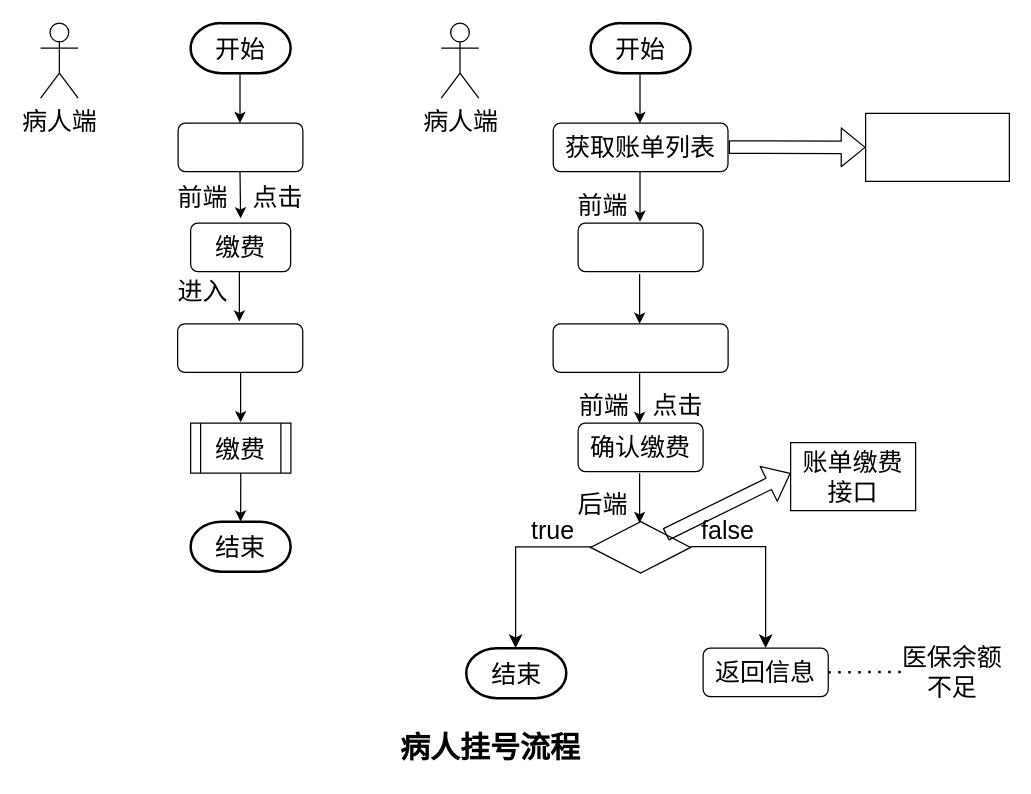
This 1031x794 diagram has some shape labels left out. The centre of each missing label's shape, as x and y in pixels:
判断: [640,546]
呈现账单信息: [640,347]
导航页面: [240,147]
缴费页面: [239,347]
获得未缴账单信息接口: [936,146]
选择账单: [640,247]
